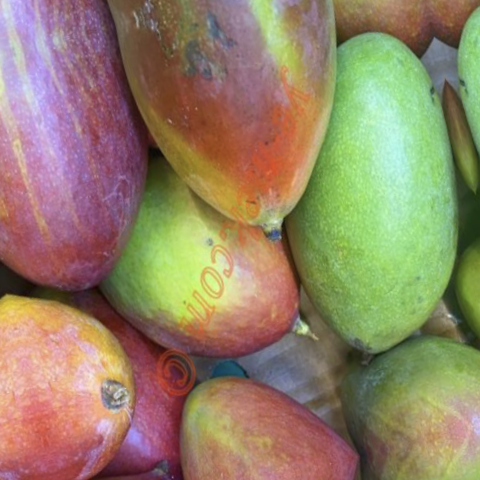mango: (235, 2, 480, 404), (66, 118, 342, 431), (99, 0, 401, 275), (0, 21, 207, 356)
